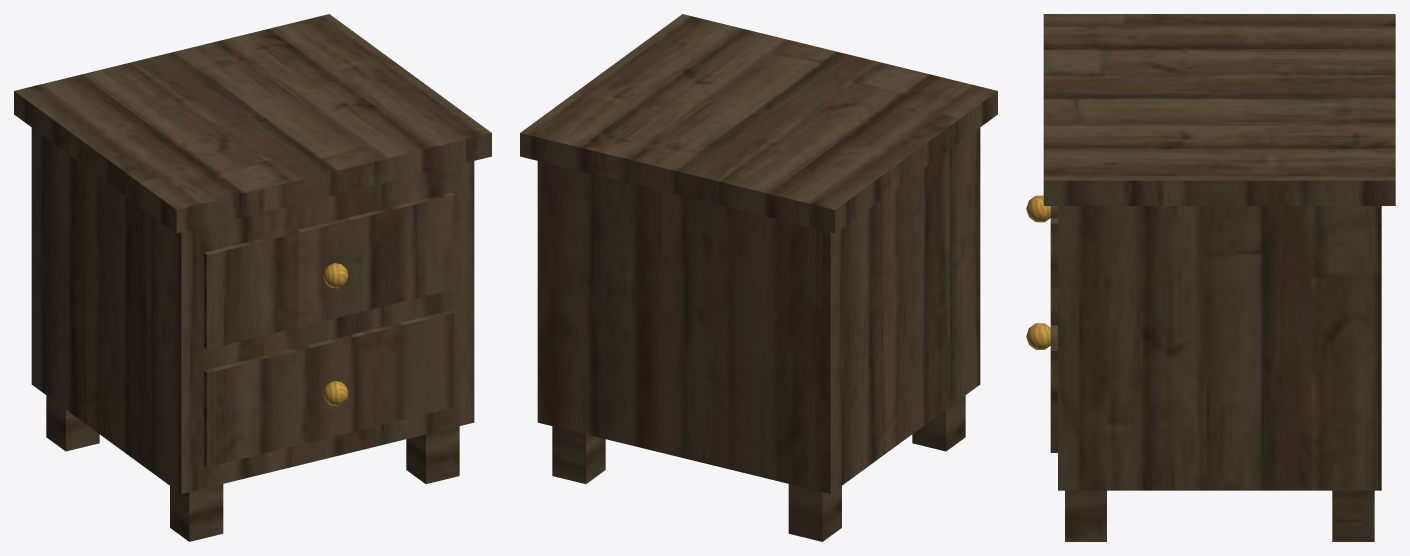
The model's file is mesita_noche.glb.
3 views of the same model, side by side, from view 1: azimuth 30°, elevation 25°; view 2: azimuth 150°, elevation 25°; view 3: azimuth 270°, elevation 25° (orthographic). The views are drawn at different scales.
Parts seen in each view (by area): view 1: mesita_noche; view 2: mesita_noche; view 3: mesita_noche.
Part boxes in pixels (x1,y1,x2,y2): mesita_noche: (14, 14, 491, 541); mesita_noche: (520, 14, 997, 541); mesita_noche: (1026, 14, 1395, 541).
Bounding box in the file's own units: 0.56 × 0.585 × 0.525.
Materials: 2 (2 with a texture image).
